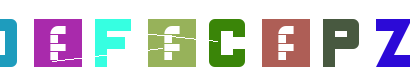2: (18, 0, 98, 80)
7: (133, 0, 213, 80), (240, 0, 320, 80)
C: (166, 0, 246, 80)
F: (68, 0, 148, 80)
O: (0, 0, 80, 80)
P: (246, 0, 326, 80)
Z: (329, 0, 409, 80)
